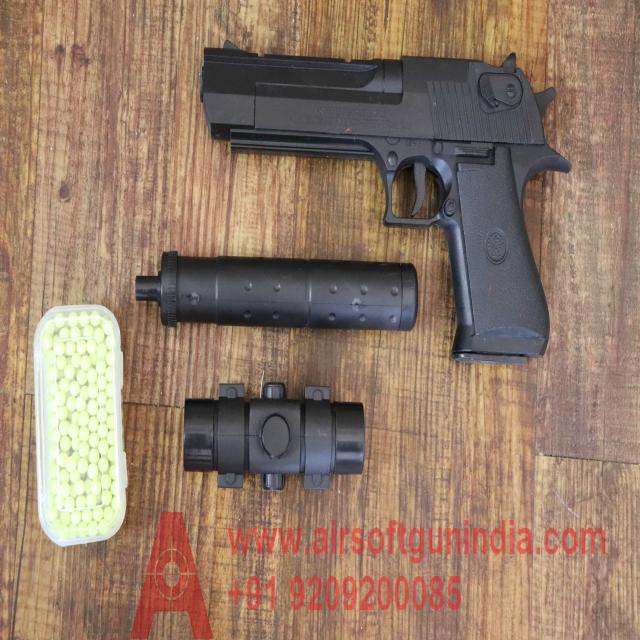handgun: (191, 39, 594, 428)
